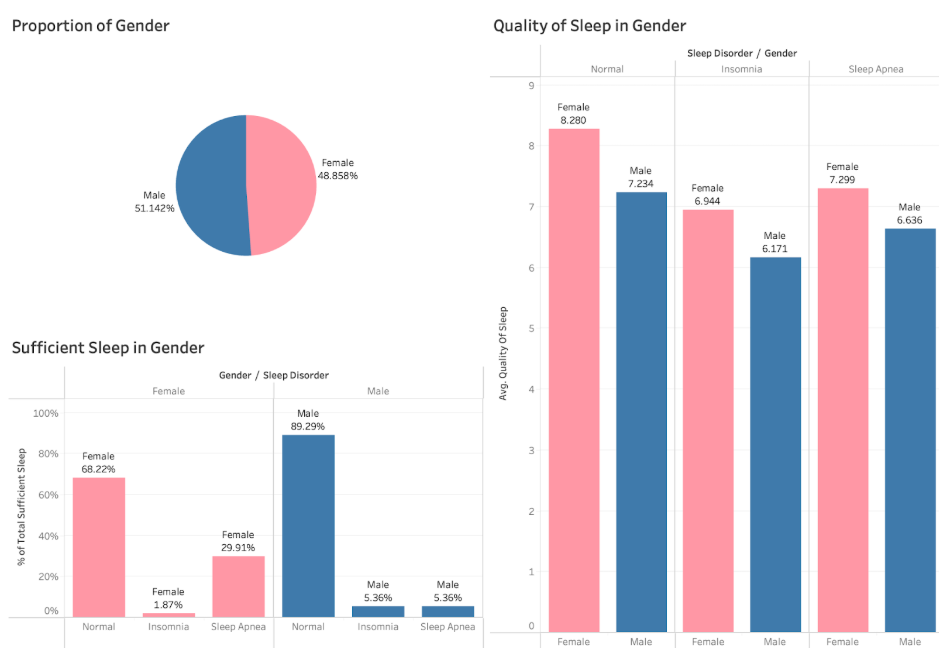

The page's visual inventory and layout, read from the dashboard file:
{"tool":"tableau","page":{"name":"Q3.3 Dashboard Gender: Quaility of Sleep","canvas":[1000,1000],"units":"permille","ordinal":4},"visuals":[{"type":"worksheet","title":"Q3.3 Proportion of Gender","mark":"Pie","box":[6.9,12.2,420.2,487]},{"type":"worksheet","title":"Q3.3 Quality of Sleep in Gender","mark":"Automatic","rows":["quality_of_sleep"],"cols":["sleep_disorder","gender"],"box":[427.2,12.2,402.4,975.6]},{"type":"legend","title":"Q3.3 Proportion of Gender","param":"[federated.0h945g30rc20i3161gg5g0mod7wl].[none:gender:nk]","box":[829.6,12.2,163.5,136.9]},{"type":"legend","title":"Q3.3 Proportion of Gender","param":"[federated.0h945g30rc20i3161gg5g0mod7wl].[pcto:sum:sufficient_sleep:qk:5]","box":[829.6,149.1,163.5,838.8]},{"type":"worksheet","title":"Q3.3 Sufficient Sleep in Gender","mark":"Automatic","cols":["gender","sleep_disorder"],"box":[6.9,499.2,420.2,488.7]}]}

Visuals, with their boxes on the dashboard's canvas, which has no fixed pixel size, in thousandths of its width and height (x1, y1, x2, y2). These are canvas units, not pixel positions in the 939x648 screenshot, which may show the page scaled, cropped or inside an application window:
"Q3.3 Proportion of Gender" worksheet (Pie marks): [left=7, top=12, right=427, bottom=499]
"Q3.3 Quality of Sleep in Gender" worksheet: [left=427, top=12, right=830, bottom=988]
"Q3.3 Proportion of Gender" legend: [left=830, top=12, right=993, bottom=149]
"Q3.3 Proportion of Gender" legend: [left=830, top=149, right=993, bottom=988]
"Q3.3 Sufficient Sleep in Gender" worksheet: [left=7, top=499, right=427, bottom=988]
